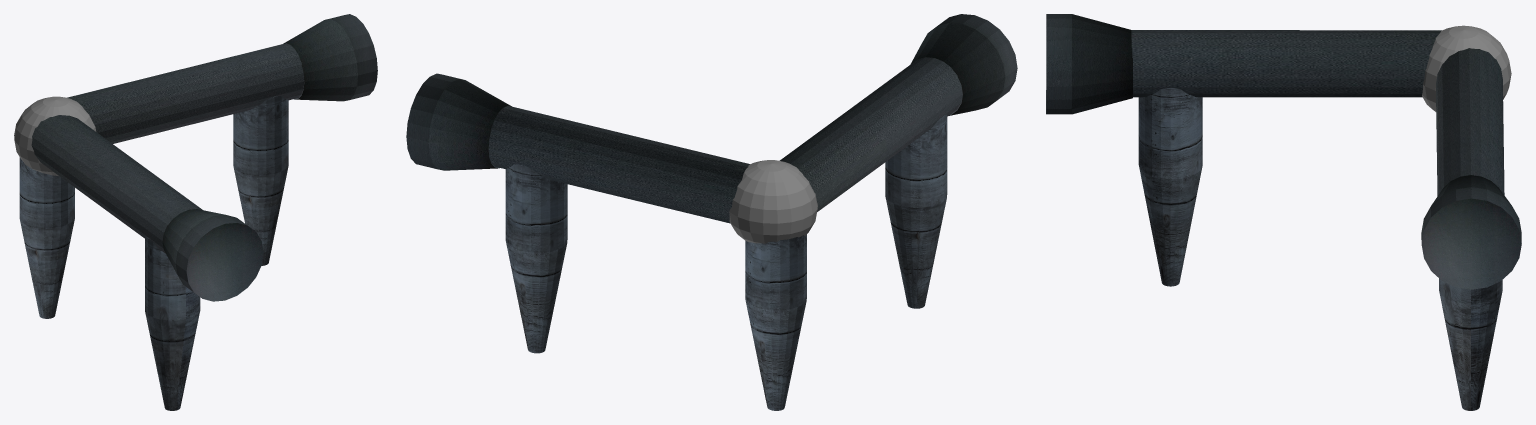
File: pipe_L.glb
3 views of the same model, side by side, from view 1: azimuth 30°, elevation 25°; view 2: azimuth 150°, elevation 25°; view 3: azimuth 270°, elevation 25° (orthographic). The views are drawn at different scales.
Visible parts, largest first — view 1: Silindir1 (×2), Silindir2 (×2), Silindir4 (×2), Silindir, Küre; view 2: Silindir1 (×2), Silindir4 (×2), Silindir2 (×2), Silindir, Küre; view 3: Silindir1 (×2), Silindir2 (×2), Silindir4 (×2), Küre.
Part boxes in pixels (left/top/right/bottom): Silindir1 (×2): left=31, top=43, right=304, bottom=253; Silindir2 (×2): left=162, top=14, right=377, bottom=301; Silindir4 (×2): left=145, top=96, right=288, bottom=410; Silindir: left=19, top=157, right=74, bottom=318; Küre: left=14, top=96, right=96, bottom=175; Silindir1 (×2): left=488, top=57, right=962, bottom=223; Silindir4 (×2): left=505, top=114, right=947, bottom=353; Silindir2 (×2): left=406, top=14, right=1017, bottom=170; Silindir: left=745, top=234, right=806, bottom=410; Küre: left=729, top=160, right=817, bottom=243; Silindir1 (×2): left=1131, top=30, right=1504, bottom=196; Silindir2 (×2): left=1046, top=14, right=1521, bottom=289; Silindir4 (×2): left=1138, top=88, right=1502, bottom=410; Küre: left=1422, top=25, right=1511, bottom=111.
Bounding box in the file's own units: 0.7099 × 0.4315 × 0.7049.
8 materials, 7 textured.
